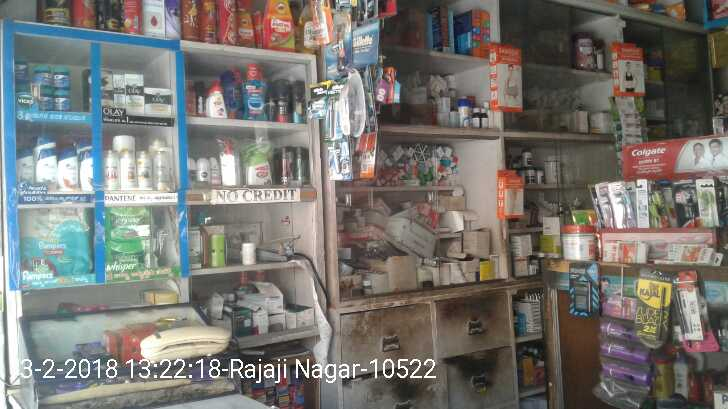beauty: (151, 150, 176, 204), (332, 16, 351, 69), (140, 89, 177, 116), (326, 85, 344, 140), (35, 144, 54, 192), (54, 148, 75, 191), (77, 149, 96, 192), (125, 73, 143, 116), (331, 142, 351, 178), (91, 76, 110, 113), (17, 151, 32, 191), (104, 151, 120, 188), (309, 83, 326, 117), (136, 151, 151, 188), (119, 151, 135, 185), (112, 75, 125, 112)
pharmacy: (16, 204, 93, 284), (100, 238, 149, 276), (103, 206, 154, 236), (32, 88, 57, 111), (53, 62, 71, 92), (35, 60, 50, 87), (56, 92, 74, 114)
